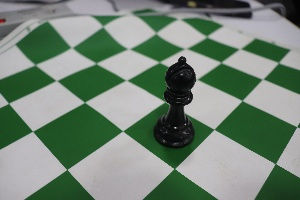black_bishop: (155, 47, 199, 155)
